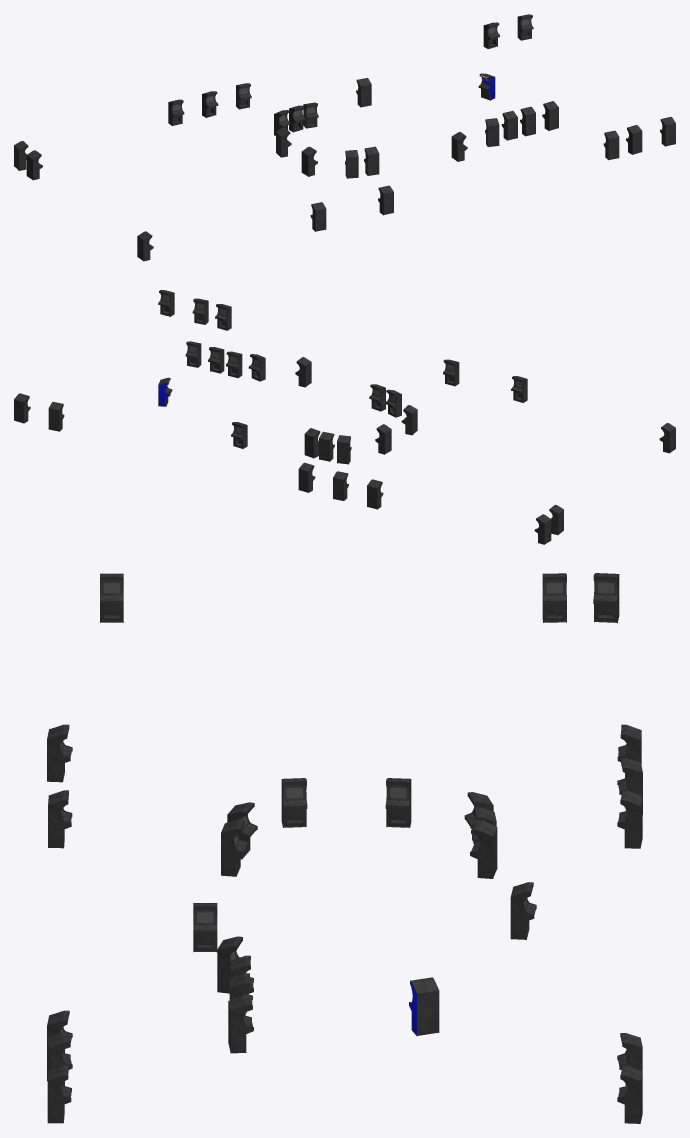
The model's file is Arcade_Machines_V2.glb.
3 views of the same model, one above another, from view 1: azimuth 30°, elevation 25°; view 2: azimuth 150°, elevation 25°; view 3: azimuth 270°, elevation 25° (orthographic). The views are drawn at different scales.
Parts seen in each view (by area): view 1: Arcade Machine.066, Arcade Machine.057, Arcade Machine.077, Arcade Machine.078, Arcade Machine.075, Arcade Machine.082, Arcade Machine.072, Arcade Machine.068, Arcade Machine.079, Arcade Machine.073, Arcade Machine.058, Arcade Machine.064 (+7 smaller); view 2: Arcade Machine.069, Arcade Machine.081, Arcade Machine.060, Arcade Machine.071, Arcade Machine.080, Arcade Machine.062, Arcade Machine.070, Arcade Machine.065, Arcade Machine.059, Arcade Machine.061, Arcade Machine.083, Arcade Machine.068; view 3: Arcade Machine.076, Arcade Machine.065, Arcade Machine.059, Arcade Machine.058, Arcade Machine.062, Arcade Machine.064, Arcade Machine.083, Arcade Machine.082, Arcade Machine.069, Arcade Machine.063, Arcade Machine.080, Arcade Machine.057 (+5 smaller).
Boxes of the visible parts, bbox=[...] form: Arcade Machine.066: bbox=[310, 202, 326, 231]; Arcade Machine.057: bbox=[364, 146, 379, 175]; Arcade Machine.077: bbox=[603, 130, 619, 160]; Arcade Machine.078: bbox=[626, 125, 642, 154]; Arcade Machine.075: bbox=[542, 101, 558, 130]; Arcade Machine.082: bbox=[356, 78, 371, 107]; Arcade Machine.072: bbox=[501, 110, 517, 140]; Arcade Machine.068: bbox=[378, 185, 393, 215]; Arcade Machine.079: bbox=[660, 117, 675, 146]; Arcade Machine.073: bbox=[520, 106, 535, 136]; Arcade Machine.058: bbox=[301, 146, 317, 176]; Arcade Machine.064: bbox=[26, 150, 42, 180]; Arcade Machine.069: bbox=[298, 462, 315, 492]; Arcade Machine.081: bbox=[48, 402, 64, 431]; Arcade Machine.060: bbox=[319, 431, 334, 461]; Arcade Machine.071: bbox=[367, 479, 383, 509]; Arcade Machine.080: bbox=[14, 393, 30, 423]; Arcade Machine.062: bbox=[304, 428, 320, 458]; Arcade Machine.070: bbox=[333, 471, 348, 500]; Arcade Machine.065: bbox=[534, 514, 551, 544]; Arcade Machine.059: bbox=[375, 424, 391, 454]; Arcade Machine.061: bbox=[337, 435, 351, 464]; Arcade Machine.083: bbox=[295, 357, 311, 387]; Arcade Machine.068: bbox=[443, 359, 459, 386]; Arcade Machine.076: bbox=[409, 977, 439, 1036]; Arcade Machine.065: bbox=[593, 573, 619, 623]; Arcade Machine.059: bbox=[385, 778, 411, 827]; Arcade Machine.058: bbox=[281, 778, 307, 827]; Arcade Machine.062: bbox=[470, 820, 497, 878]; Arcade Machine.064: bbox=[542, 573, 566, 622]; Arcade Machine.083: bbox=[193, 903, 217, 952]; Arcade Machine.082: bbox=[510, 882, 536, 939]; Arcade Machine.069: bbox=[617, 790, 642, 848]; Arcade Machine.063: bbox=[100, 573, 123, 622]; Arcade Machine.080: bbox=[617, 1065, 642, 1123]; Arcade Machine.057: bbox=[221, 819, 248, 876].
Size of what is drawn, in the model's own units: 46.2 by 2.04 by 22.88.
56 materials, 29 textured.
